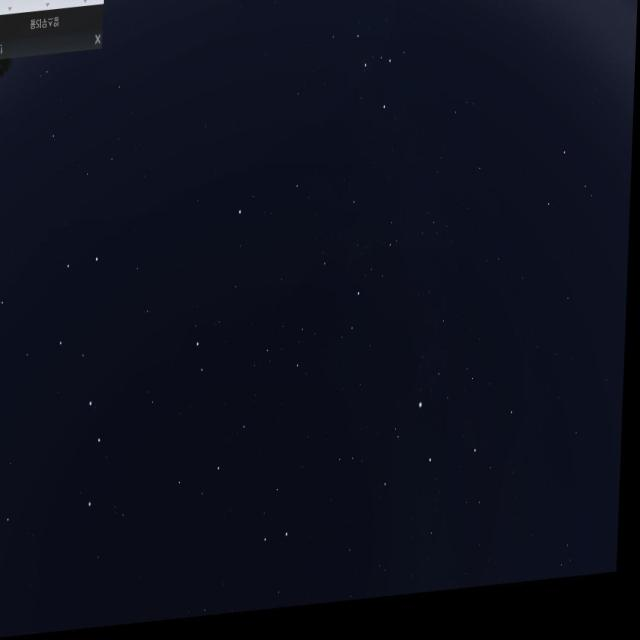cassiopeia: (311, 32, 411, 164)
cygnus: (378, 398, 489, 607)
ursa_major: (34, 238, 124, 530)
